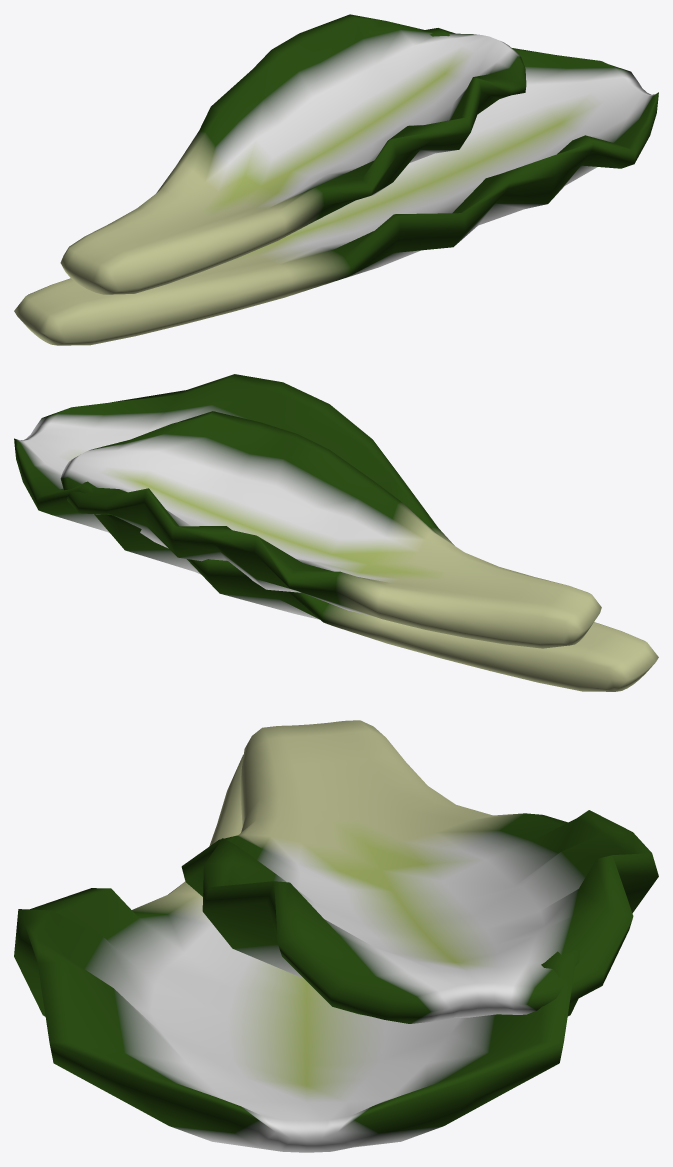
File: RAW_greens.fbx
The picture shows the model from 3 angles, top to bottom: view 1: azimuth 30°, elevation 25°; view 2: azimuth 150°, elevation 25°; view 3: azimuth 270°, elevation 25°; orthographic projection. The views are drawn at different scales.
Visible parts, largest first — view 1: RAW_greens; view 2: RAW_greens; view 3: RAW_greens.
Boxes of the visible parts, x1,y1,x2,y2 form: RAW_greens: (14, 14, 658, 345); RAW_greens: (14, 374, 658, 691); RAW_greens: (14, 720, 658, 1152).
Bounding box in the file's own units: 0.0939 × 0.0245 × 0.0492.
